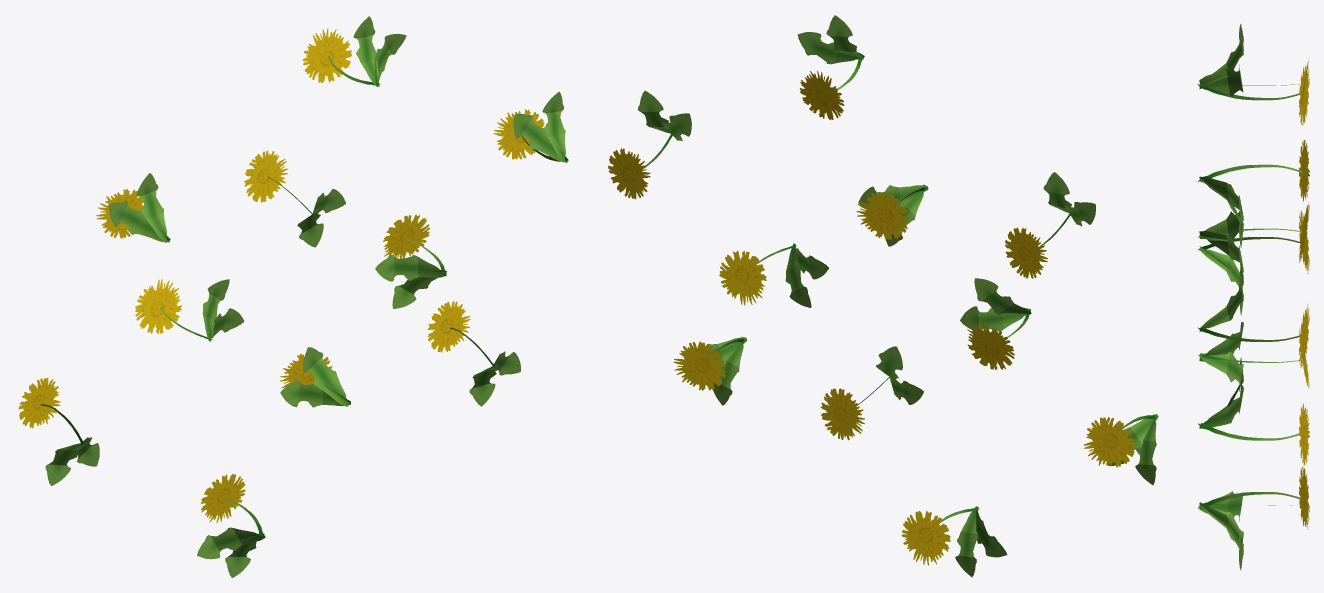
The model's file is flowers1.glb.
3 renders of one model, left to right at view 1: azimuth 30°, elevation 25°; view 2: azimuth 150°, elevation 25°; view 3: azimuth 270°, elevation 25°, orthographic. The views are drawn at different scales.
Visible parts, largest first — view 1: flowers1; view 2: flowers1; view 3: flowers1.
Boxes of the visible parts, left/top/right/bottom form: flowers1: left=18, top=16, right=568, bottom=577; flowers1: left=608, top=15, right=1158, bottom=577; flowers1: left=1197, top=24, right=1309, bottom=570.
Size of the model in its own units: 15.3 by 14.62 by 2.48.
1 material, 1 textured.
